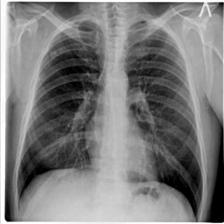tuberculosis: (15, 13, 205, 224)
